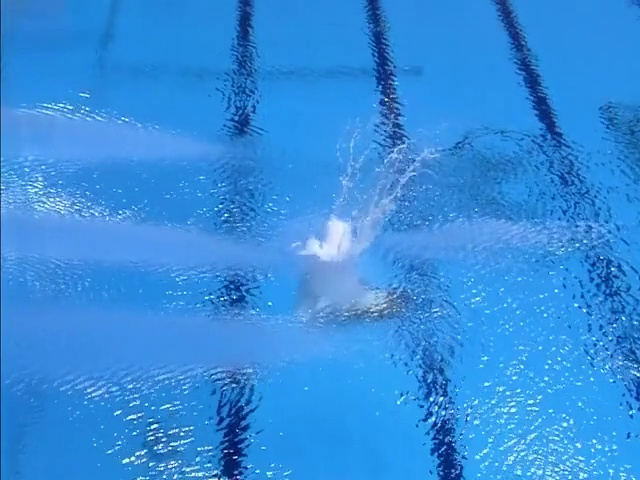splash: (296, 131, 440, 261)
